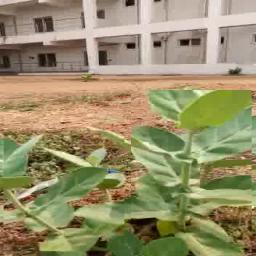Calotropis: (131, 90, 252, 256), (4, 131, 126, 252)
